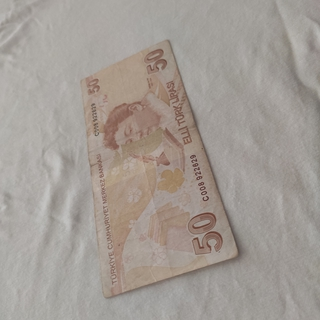50TLBack: (79, 39, 239, 298)
